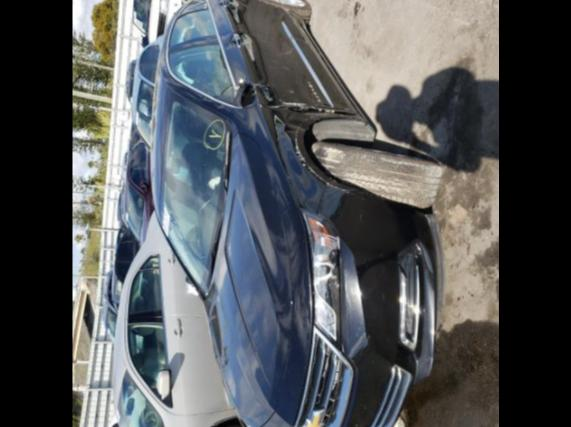Broken part: (399, 243, 421, 352), (261, 104, 364, 117)
Dent: (270, 110, 342, 218), (168, 86, 244, 124), (253, 79, 336, 112)
Missing part: (230, 76, 255, 106)
Paint chip: (281, 65, 293, 70)
Scratch: (292, 122, 348, 193), (163, 63, 235, 111), (279, 100, 334, 116), (306, 78, 321, 102)
